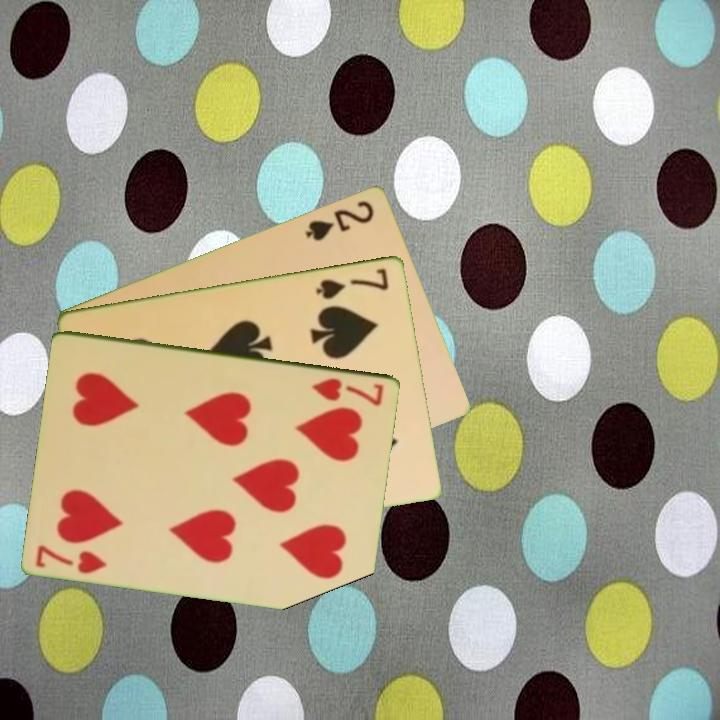2s: (302, 196, 377, 244)
7h: (32, 540, 110, 576), (308, 374, 387, 408)
7s: (312, 264, 392, 302)
